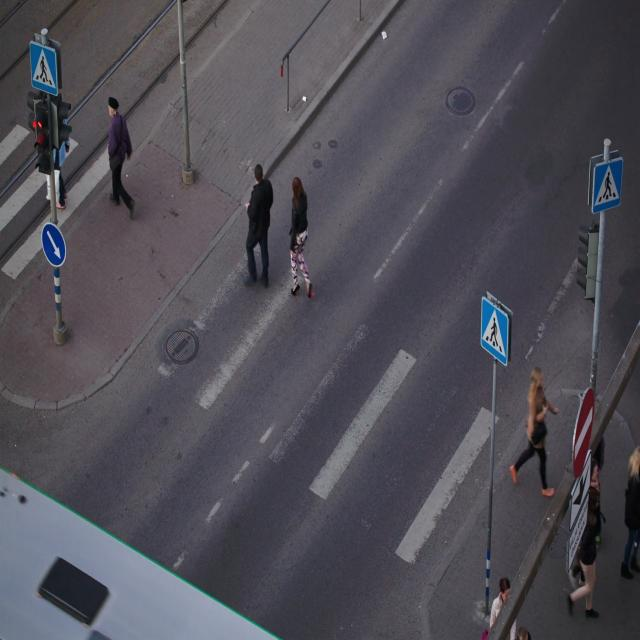pedestrian: (510, 367, 558, 496), (245, 165, 273, 286), (289, 177, 312, 296)
